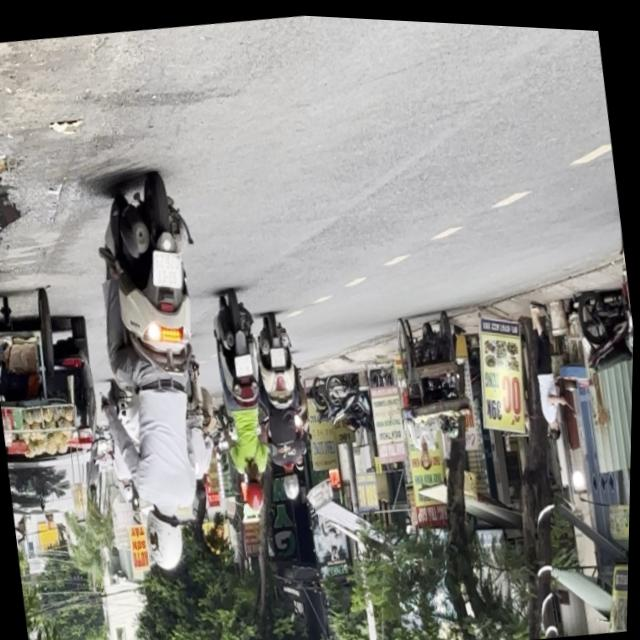helmet: (147, 501, 193, 573), (244, 470, 269, 509), (282, 465, 304, 498)
licenseplate: (71, 156, 242, 583), (203, 285, 284, 515), (248, 308, 322, 501)
nohelmet: (148, 243, 186, 290), (235, 350, 256, 375), (270, 343, 287, 364)
